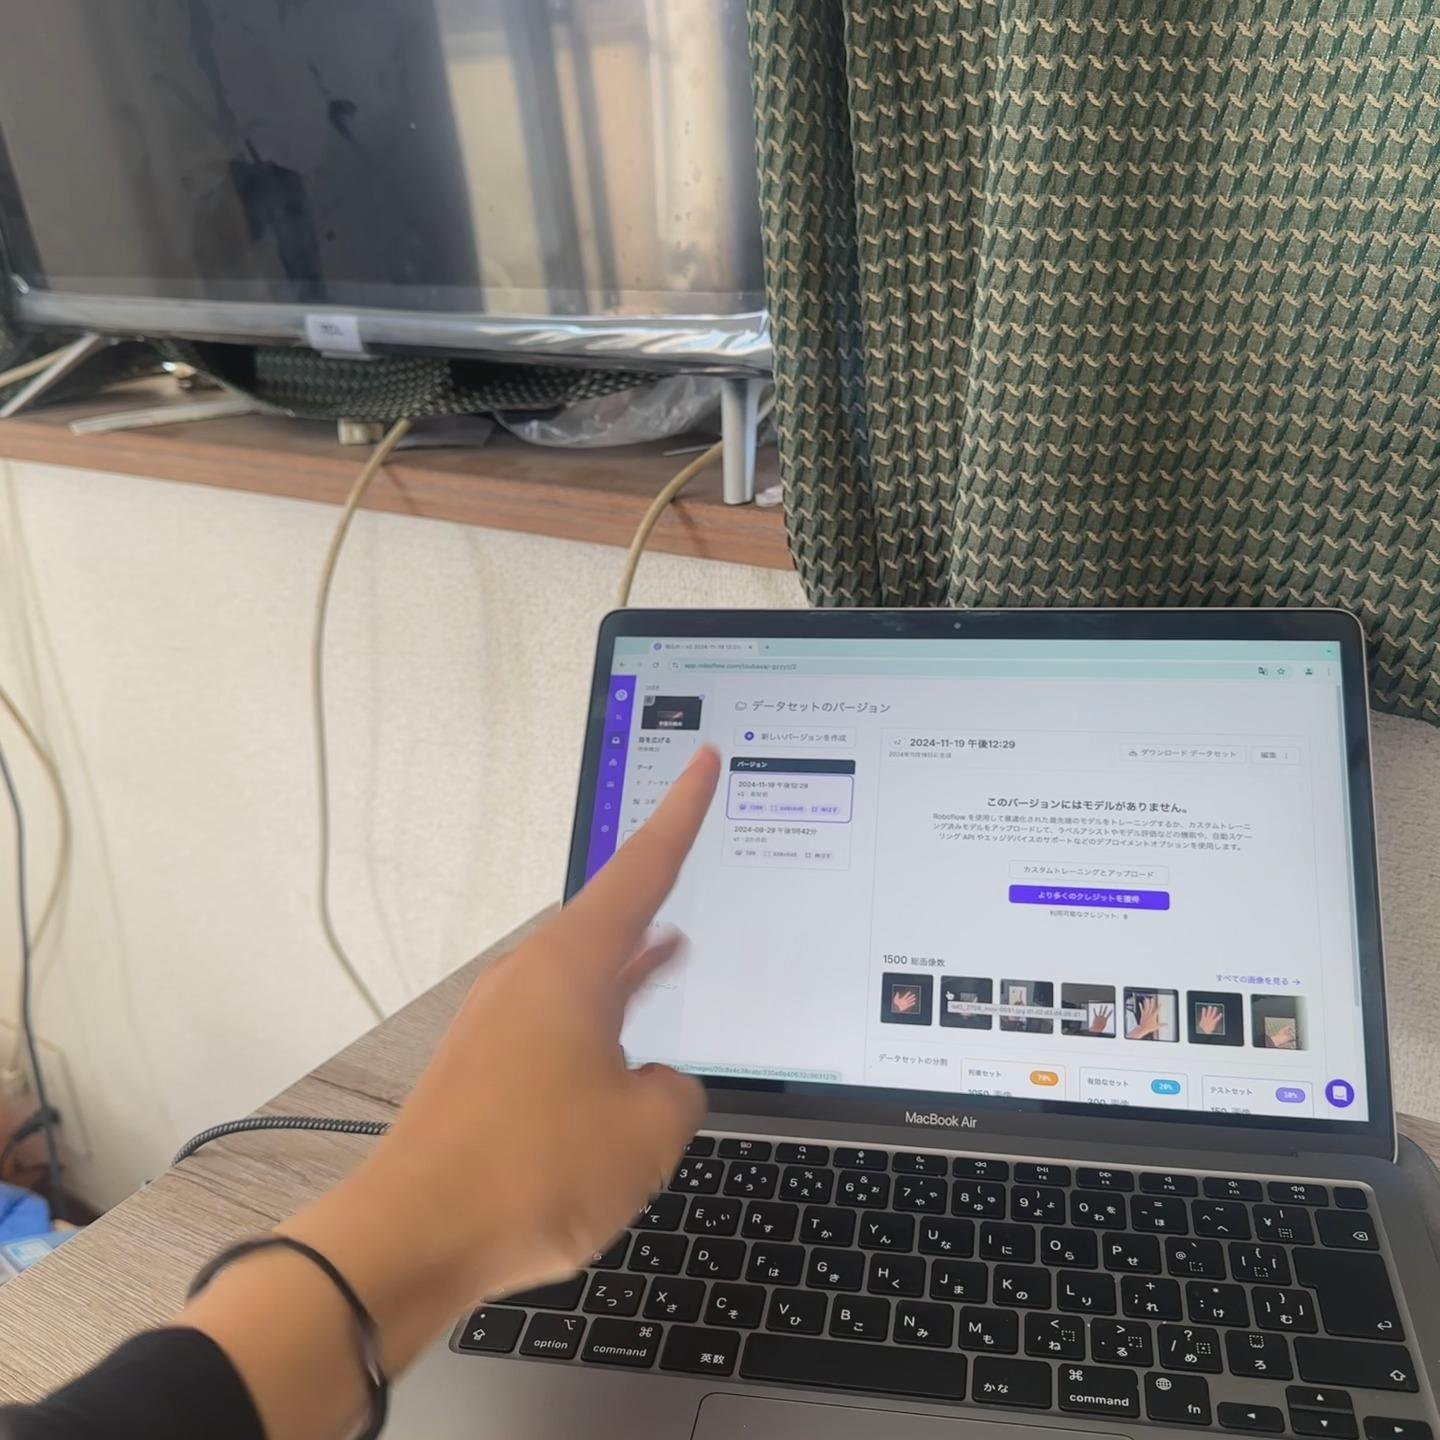without_gloves: (382, 667, 911, 1370)
